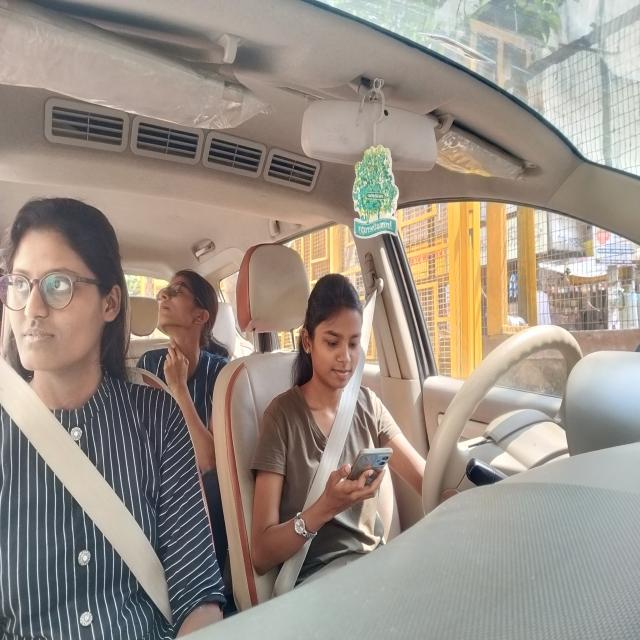mobile: (346, 438, 398, 498)
person: (0, 179, 131, 403), (294, 259, 387, 411), (147, 257, 227, 373)
